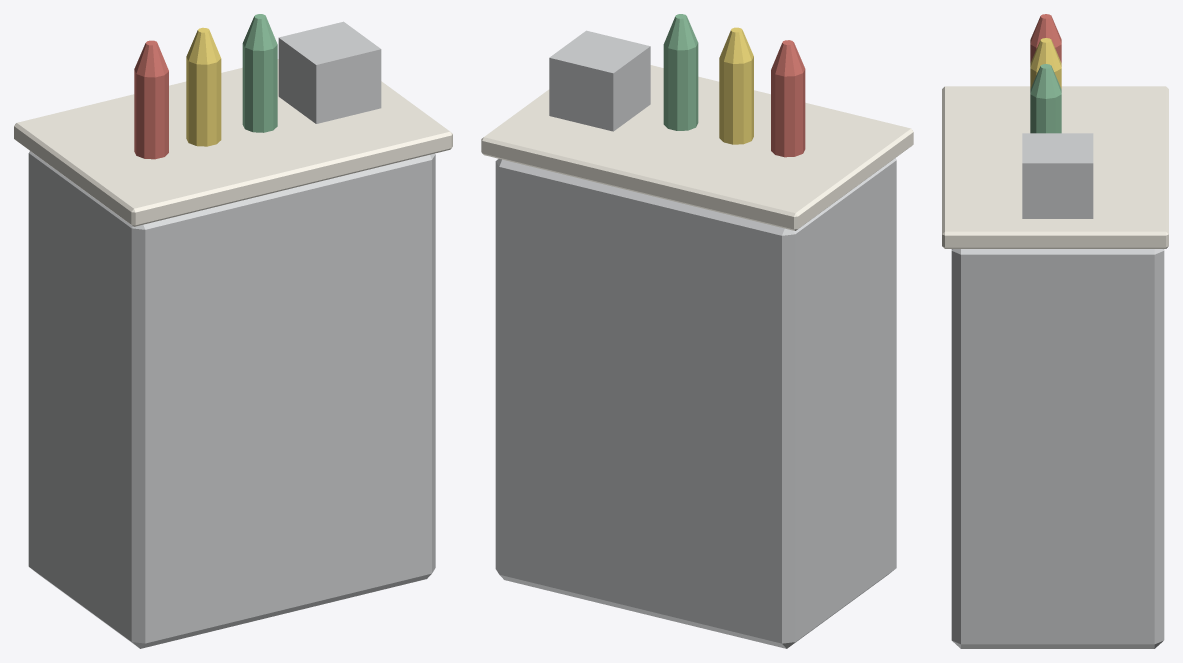
The model's file is condiments.glb.
3 views of the same model, side by side, from view 1: azimuth 30°, elevation 25°; view 2: azimuth 150°, elevation 25°; view 3: azimuth 270°, elevation 25° (orthographic). The views are drawn at different scales.
Parts seen in each view (by area): view 1: condiments_chrome, condiments_cream, condiments_yellowp, condiments_green_p, condiments_tile_r; view 2: condiments_chrome, condiments_cream, condiments_green_p, condiments_yellowp, condiments_tile_r; view 3: condiments_chrome, condiments_cream, condiments_green_p, condiments_yellowp, condiments_tile_r.
Boxes of the visible parts, left/top/right/bottom form: condiments_chrome: left=28, top=21, right=435, bottom=648; condiments_cream: left=14, top=59, right=452, bottom=226; condiments_yellowp: left=186, top=27, right=221, bottom=146; condiments_green_p: left=242, top=14, right=277, bottom=132; condiments_tile_r: left=134, top=40, right=168, bottom=159; condiments_chrome: left=495, top=30, right=896, bottom=648; condiments_cream: left=481, top=65, right=913, bottom=230; condiments_green_p: left=663, top=14, right=698, bottom=130; condiments_yellowp: left=719, top=27, right=753, bottom=144; condiments_tile_r: left=771, top=40, right=805, bottom=157; condiments_chrome: left=951, top=133, right=1164, bottom=648; condiments_cream: left=942, top=86, right=1168, bottom=248; condiments_green_p: left=1030, top=64, right=1061, bottom=133; condiments_yellowp: left=1030, top=38, right=1061, bottom=88; condiments_tile_r: left=1030, top=14, right=1061, bottom=62.
Bounding box in the file's own units: 0.74 × 1.23 × 0.48.
